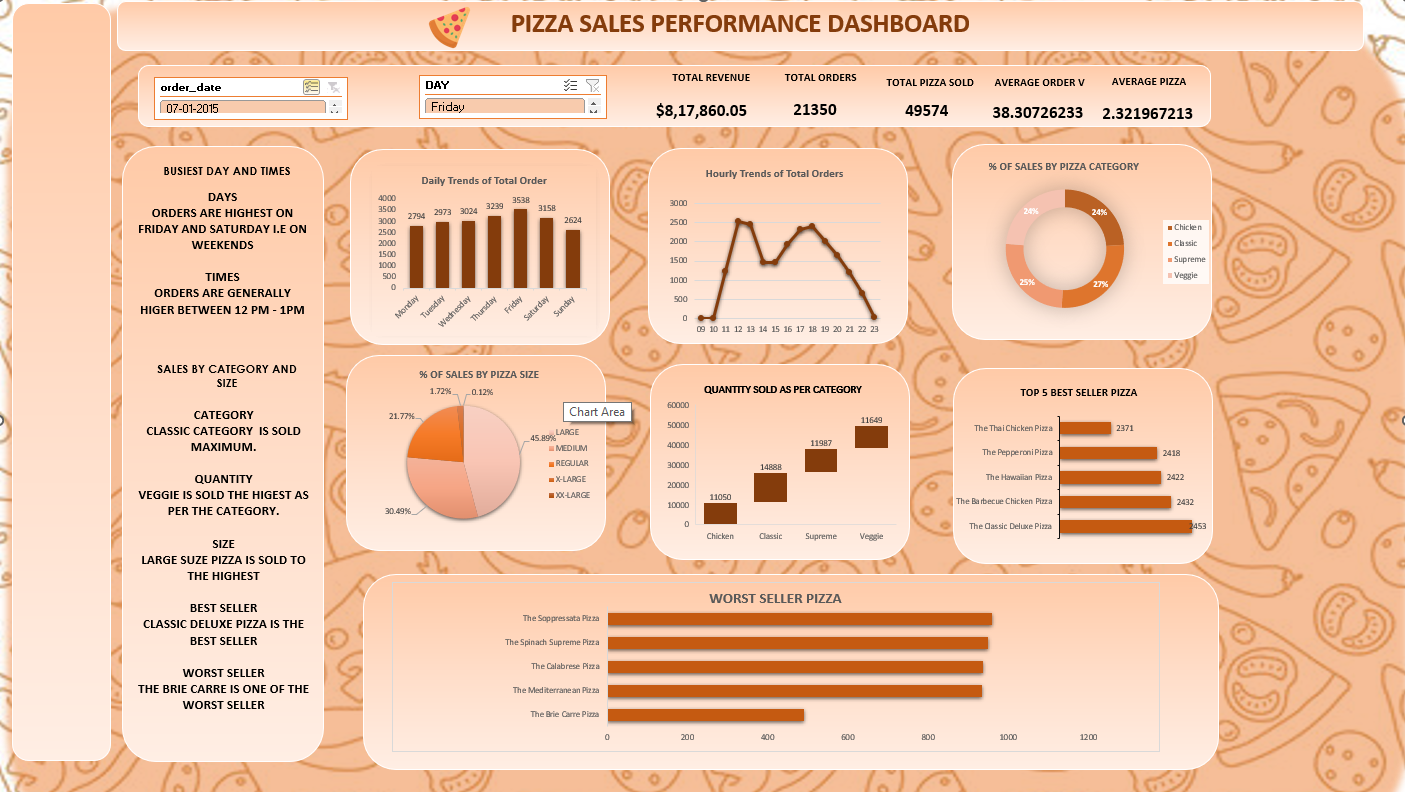

Layout of this report page (visuals, bound fields, positions):
{"tool":"powerbi","page":{"name":"Page 1","canvas":[1280,720],"ordinal":0},"visuals":[{"type":"shape","box":[72.3,0,1190,70.6],"z":0},{"type":"shape","box":[0,6.2,66.2,713.7],"z":1000},{"type":"textbox","box":[254.1,1.8,771.9,62.6],"z":2000},{"type":"shape","box":[72.3,76.7,1154.7,69.7],"z":3000},{"type":"card","title":"TOTAL REVENUE","fields":{"Values":["pizza_sales.TOTA REVEUNE"]},"box":[954.5,82,120,59.1],"z":4000},{"type":"card","title":"AOV PER CUSTOMER","fields":{"Values":["pizza_sales.TOTAL AVERAGE ORDER VALUE"]},"box":[705.7,82,120,59.1],"z":5000},{"type":"card","title":"TOTAL ORDERS","fields":{"Values":["pizza_sales.TOTAL ORDERS"]},"box":[813.3,81.2,120,59.1],"z":6000},{"type":"card","title":"TOTAL PIZZA SOLD","fields":{"Values":["pizza_sales.TOTAL PIZZA SOLD"]},"box":[1088.6,81.2,120.9,59.1],"z":7000},{"type":"card","title":"AVG PIZZA PER OR","fields":{"Values":["pizza_sales.AVG PIZZA PER ORDER"]},"box":[585.7,82,120,59.1],"z":8000},{"type":"shape","box":[73.6,141.9,594.1,296.2],"z":9000},{"type":"shape","box":[705.8,154.3,563.1,296.2],"z":10000},{"type":"shape","box":[73.6,443.3,391.9,276.7],"z":11000},{"type":"shape","box":[481.5,443.3,391.9,276.7],"z":12000},{"type":"shape","box":[888.5,450.4,391.9,269.6],"z":13000},{"type":"lineStackedColumnComboChart","title":"DAILY TRENDS OF TOTAL ORDERS","fields":{"Category":["pizza_sales.Day Name"],"Y":["pizza_sales.TOTAL ORDERS"]},"box":[106.4,154.3,521.4,273.1],"z":14000},{"type":"lineChart","title":"MONTHLY TRENDS OF TOTAL ORDERS","fields":{"Category":["pizza_sales.Month Name"],"Y":["pizza_sales.TOTAL ORDERS"]},"box":[751,167.6,494.8,258.9],"z":15000},{"type":"donutChart","title":"% OF SALES BY CATEGORY","fields":{"Series":["pizza_sales.pizza_category"],"Y":["CountNonNull(pizza_sales.pizza_category)"]},"box":[95.8,462.9,332.5,235.9],"z":16000},{"type":"donutChart","title":"% OF SALES BY PIZZA SIZE","fields":{"Series":["pizza_sales.pizza_size"],"Y":["CountNonNull(pizza_sales.pizza_category)"]},"box":[510.7,463.7,332.5,235.9],"z":17000},{"type":"clusteredBarChart","title":"TOP 3 BEST SELLER","fields":{"Category":["pizza_sales.pizza_name"],"Series":["pizza_sales.pizza_size"],"Y":["pizza_sales.TOTA REVEUNE"]},"box":[896.9,470.9,371.1,229.5],"z":18000},{"type":"slicer","fields":{"Values":["pizza_sales.order_date"]},"box":[88.8,80.8,300.3,58.9],"z":19000},{"type":"slicer","fields":{"Values":["pizza_sales.Month Name"]},"box":[389.1,81.8,196.5,62.9],"z":19001}]}

Visuals, with their boxes in screenshot pixels (x1, y1, x2, y2), scaled from the page's 1280x720 canvas onto the 1405x792 screenshot:
shape: {"x1": 79, "y1": 0, "x2": 1386, "y2": 78}
shape: {"x1": 0, "y1": 7, "x2": 73, "y2": 791}
textbox: {"x1": 279, "y1": 2, "x2": 1126, "y2": 71}
shape: {"x1": 79, "y1": 84, "x2": 1347, "y2": 161}
"TOTAL REVENUE" card: {"x1": 1048, "y1": 90, "x2": 1179, "y2": 155}
"AOV PER CUSTOMER" card: {"x1": 775, "y1": 90, "x2": 906, "y2": 155}
"TOTAL ORDERS" card: {"x1": 893, "y1": 89, "x2": 1024, "y2": 154}
"TOTAL PIZZA SOLD" card: {"x1": 1195, "y1": 89, "x2": 1328, "y2": 154}
"AVG PIZZA PER OR" card: {"x1": 643, "y1": 90, "x2": 775, "y2": 155}
shape: {"x1": 81, "y1": 156, "x2": 733, "y2": 482}
shape: {"x1": 775, "y1": 170, "x2": 1393, "y2": 496}
shape: {"x1": 81, "y1": 488, "x2": 511, "y2": 791}
shape: {"x1": 529, "y1": 488, "x2": 959, "y2": 791}
shape: {"x1": 975, "y1": 495, "x2": 1404, "y2": 791}
"DAILY TRENDS OF TOTAL ORDERS" lineStackedColumnComboChart: {"x1": 117, "y1": 170, "x2": 689, "y2": 470}
"MONTHLY TRENDS OF TOTAL ORDERS" lineChart: {"x1": 824, "y1": 184, "x2": 1367, "y2": 469}
"% OF SALES BY CATEGORY" donutChart: {"x1": 105, "y1": 509, "x2": 470, "y2": 769}
"% OF SALES BY PIZZA SIZE" donutChart: {"x1": 561, "y1": 510, "x2": 926, "y2": 770}
"TOP 3 BEST SELLER" clusteredBarChart: {"x1": 984, "y1": 518, "x2": 1392, "y2": 770}
slicer - pizza_sales.order_date: {"x1": 97, "y1": 89, "x2": 427, "y2": 154}
slicer - pizza_sales.Month Name: {"x1": 427, "y1": 90, "x2": 643, "y2": 159}
